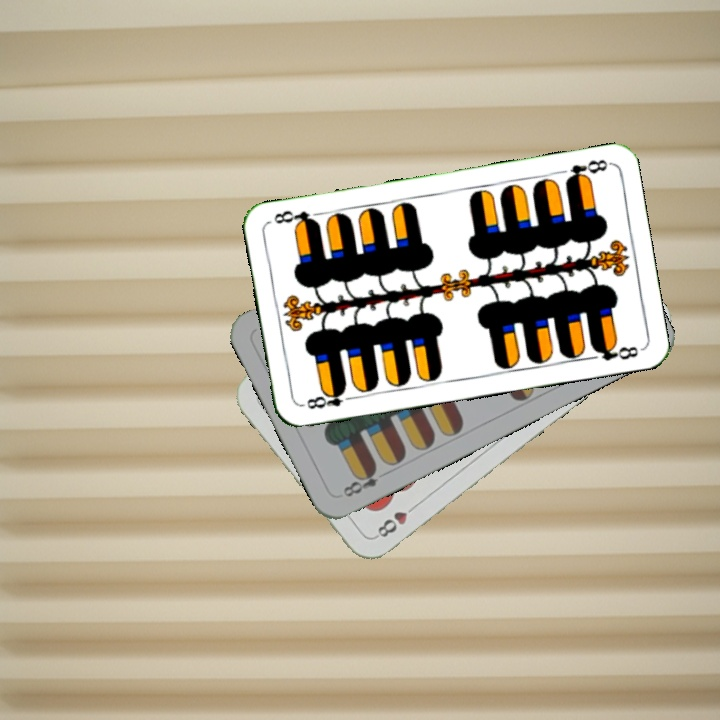E8: (339, 462, 391, 500), (298, 384, 357, 412), (561, 155, 612, 186)
H8: (371, 499, 421, 541)
